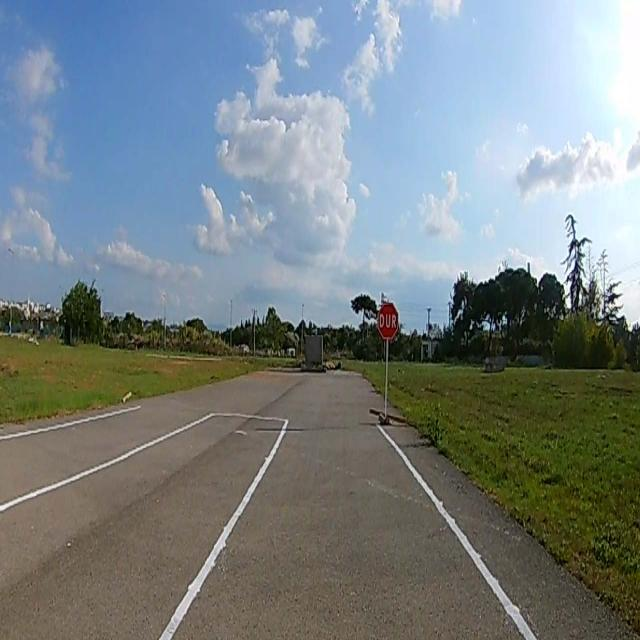dur: (378, 303, 399, 340)
